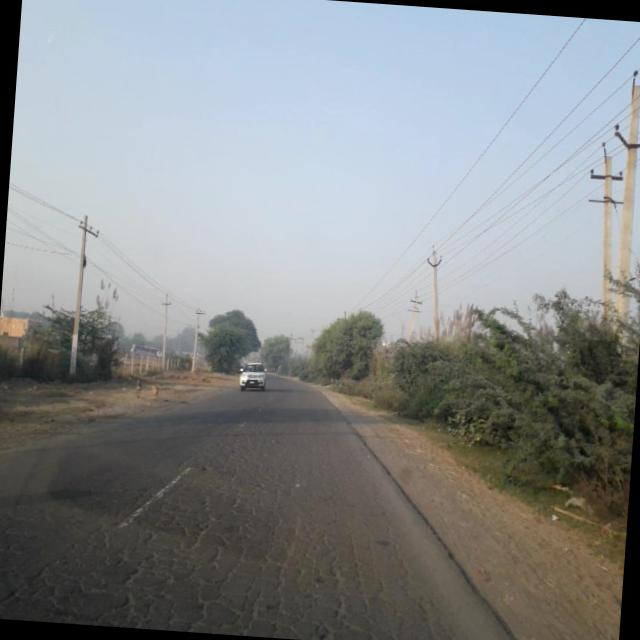crack: (0, 414, 404, 640)
